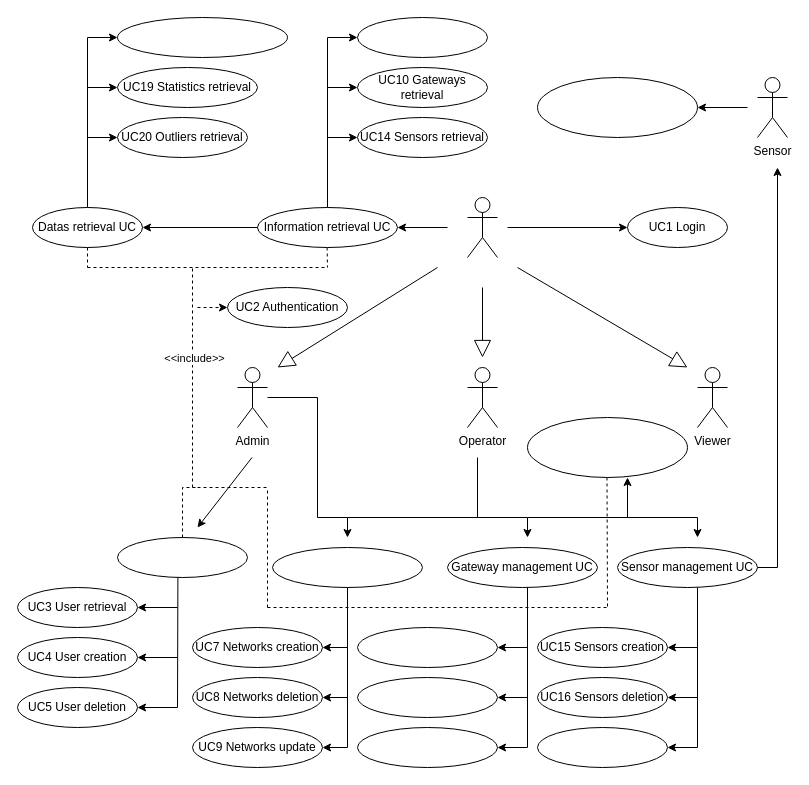
Image size: 809x785. Some labels were removed from this diagram. The shapes that lost their labels are listed below. From the top down, each one's box as (x1, y1, x2, y2) in pixels, then its label:
(116, 16, 288, 58): UC18 Mesurements retrieval
(356, 16, 488, 58): UC6 Networks retrieval
(536, 76, 698, 138): UC22 Mesurements storing by sensor
(466, 196, 498, 258): User
(526, 416, 688, 478): UC21 Mesurements storing by user
(116, 536, 248, 578): Users management UC
(272, 546, 422, 588): Network management UC
(356, 626, 498, 668): UC11 Gateways creation
(356, 676, 498, 718): UC12 Gateways deletion
(356, 726, 498, 768): UC13 Gateways update
(536, 726, 668, 768): UC17 Sensors update
